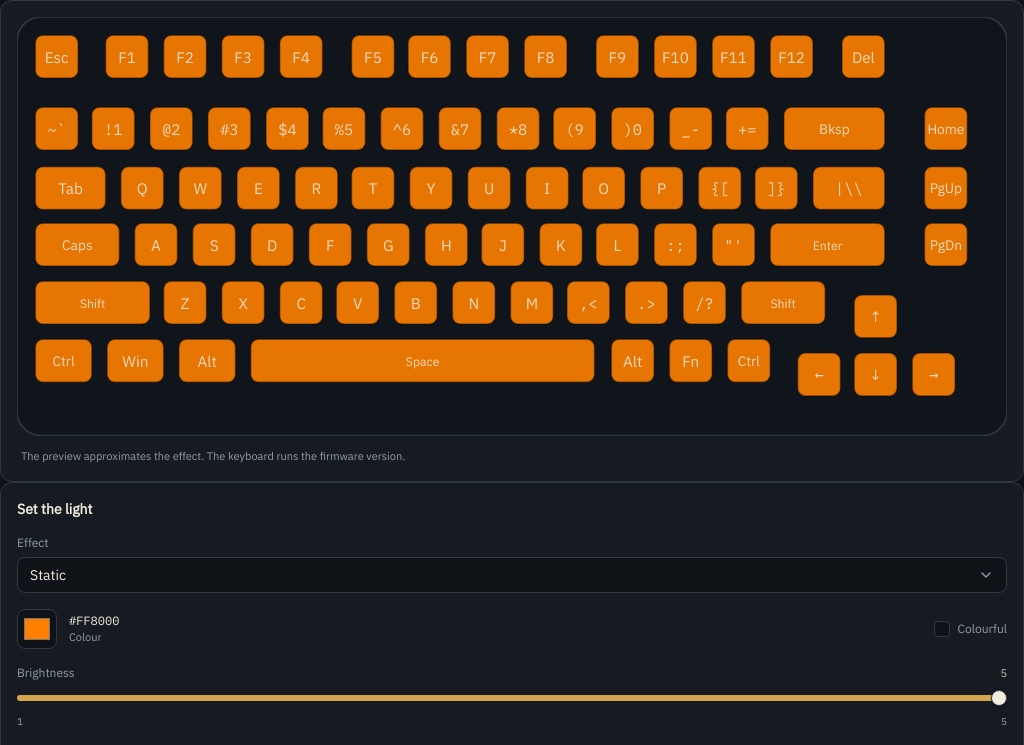
Test case: LightingPanel › disables the controls for the off mode
The image size is (1024, 745).
Click the dropdown named "Effect".
click(48, 575)  # box [17,558,1007,594]
(page scrolled)
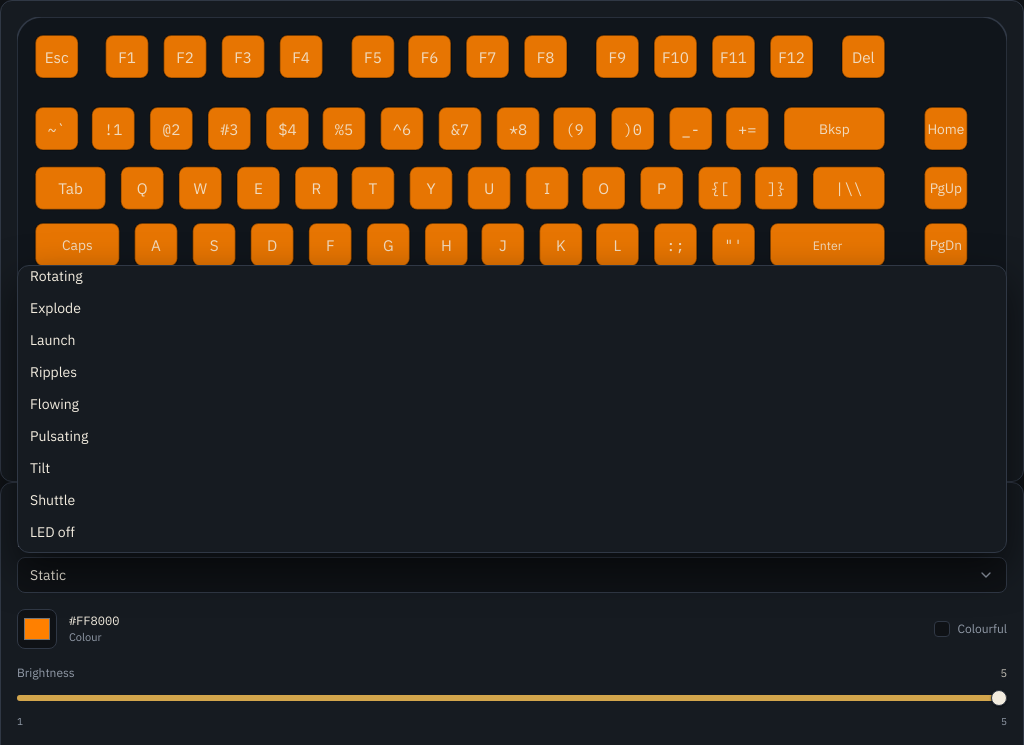
Click the option "LED off".
click(52, 532)  # box [30,523,75,541]
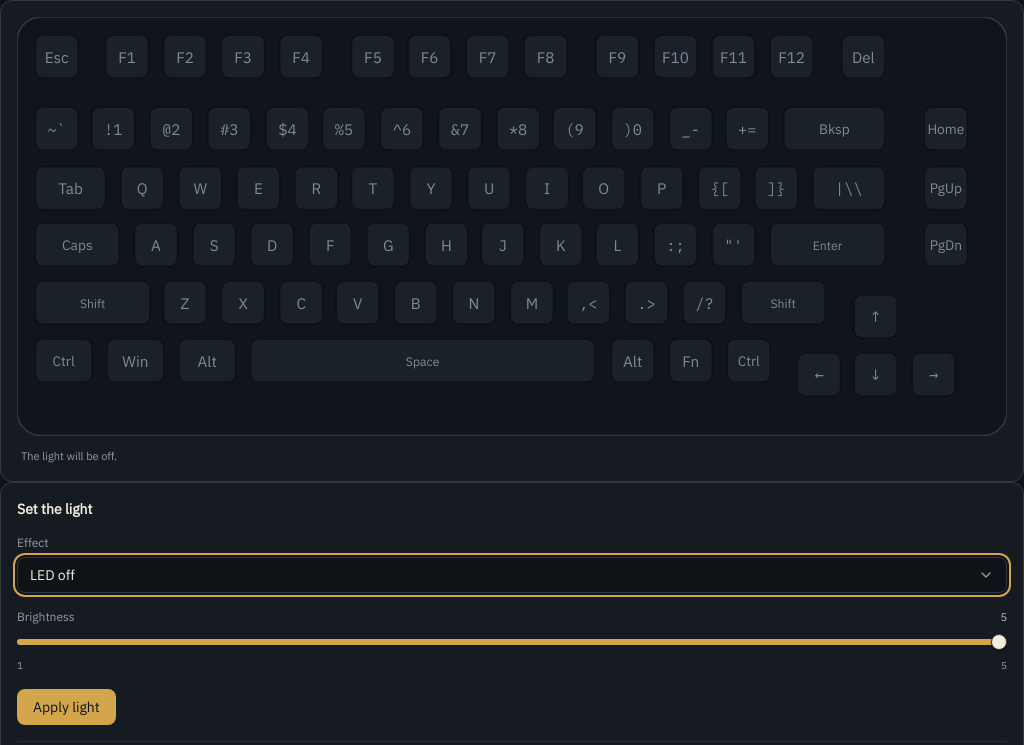
Check: the picture named "keyboard light preview: off" is shown, box [17,17,1007,436]
